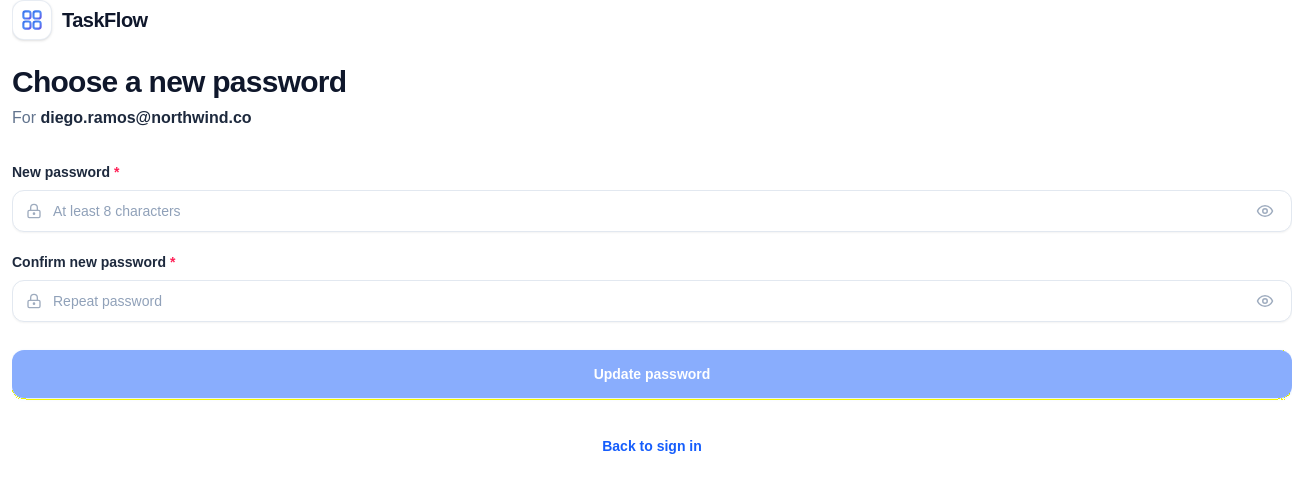
Scenario: ResetPasswordForm Component › keeps submit button disabled when passwords are invalid or mismatching
The width and height of the screenshot is (1304, 493).
Expected: the button "Update password" is disabled, [12,350,1292,398]
// Too short
Type "short" into the password field with placeholder "At least 8 characters".
click(652, 211); type("short")  # box [12,190,1292,232]
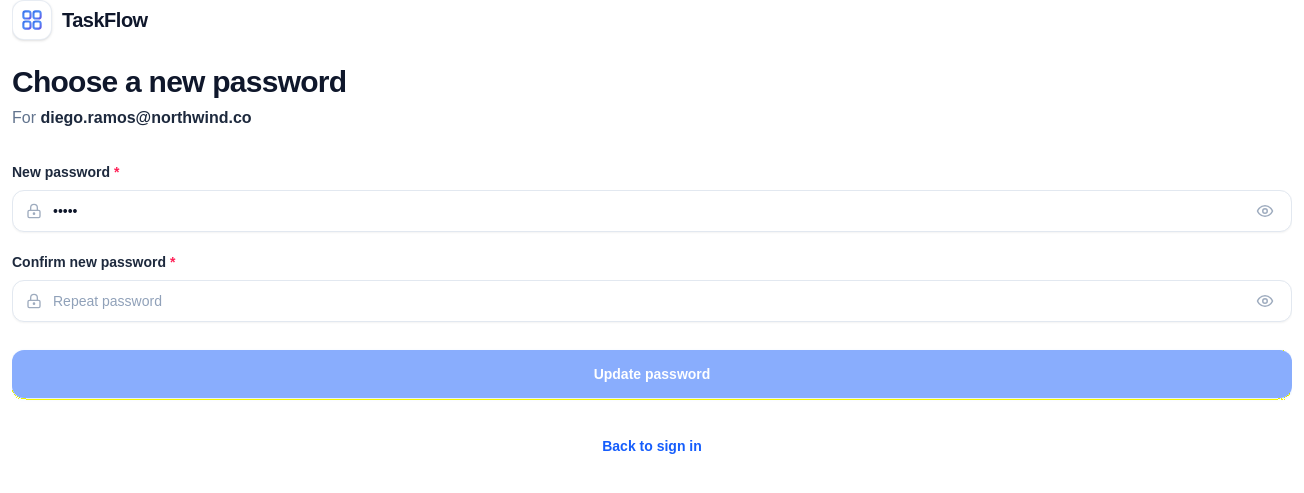
Type "short" into the password field with placeholder "Repeat password".
click(652, 301); type("short")  # box [12,280,1292,322]
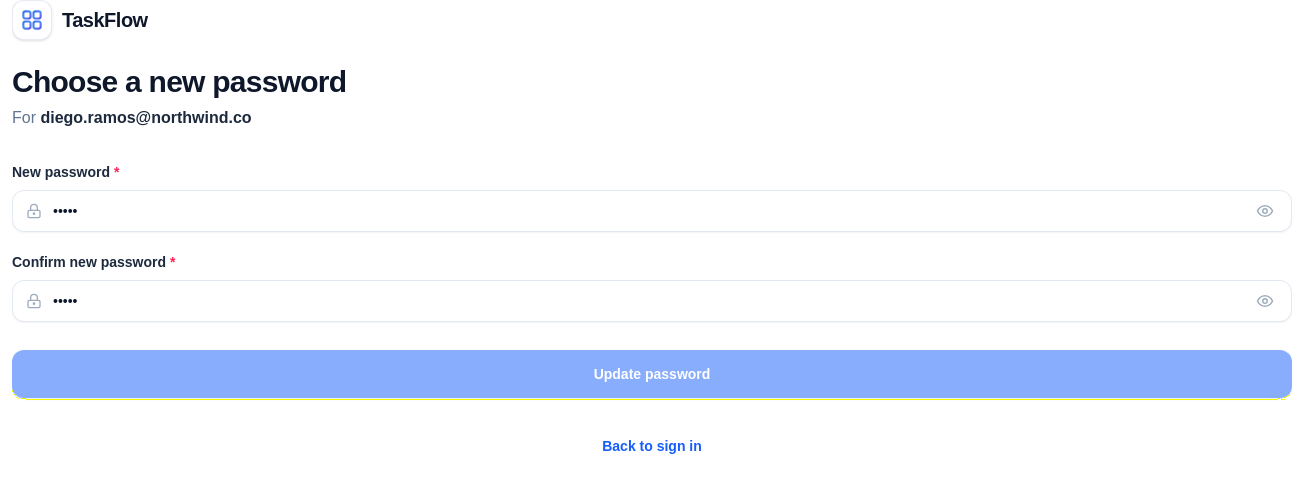
Expected: the button "Update password" is disabled, [12,350,1292,398]
Type "NewPassword123" into the password field with placeholder "At least 8 characters".
click(652, 211); type("NewPassword123")  # box [12,190,1292,232]
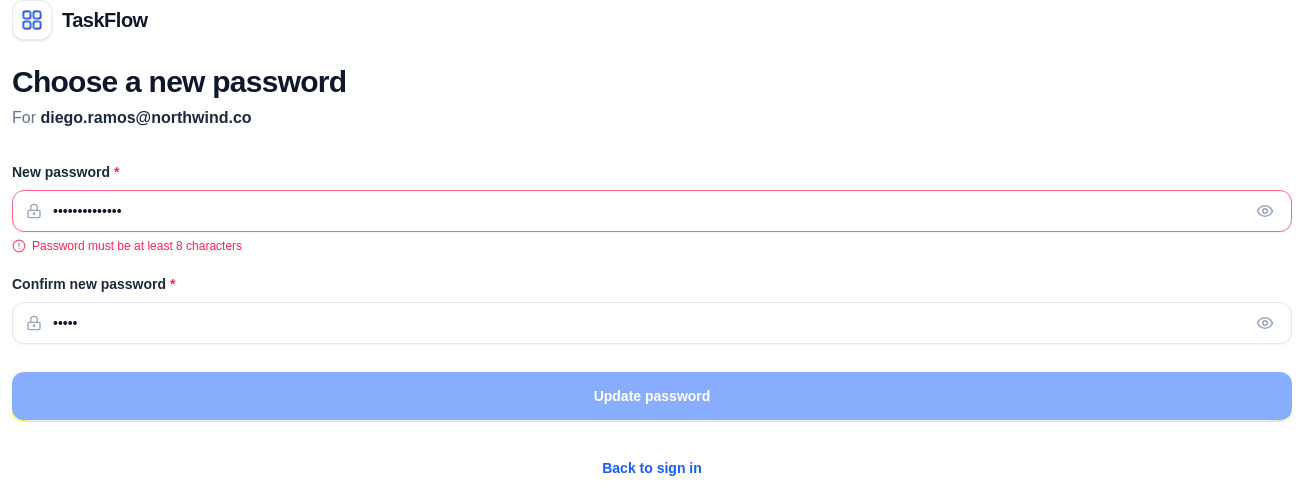
Type "DifferentPass123" into the password field with placeholder "Repeat password".
click(652, 323); type("DifferentPass123")  # box [12,302,1292,344]
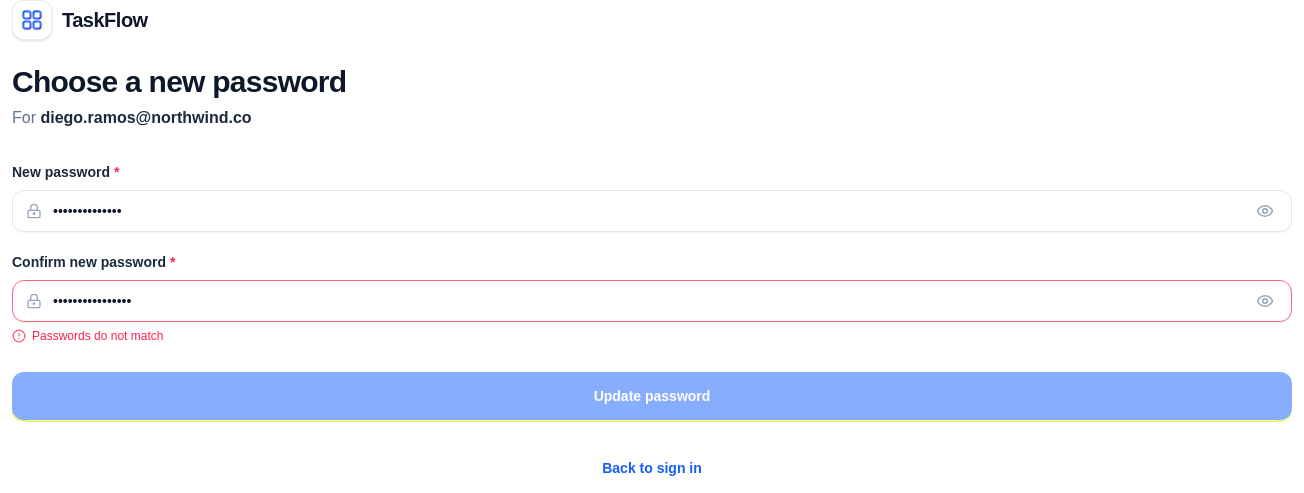
Expected: the button "Update password" is disabled, [12,372,1292,420]
// Valid matching
Type "NewPassword123" into the password field with placeholder "Repeat password".
click(652, 301); type("NewPassword123")  # box [12,280,1292,322]
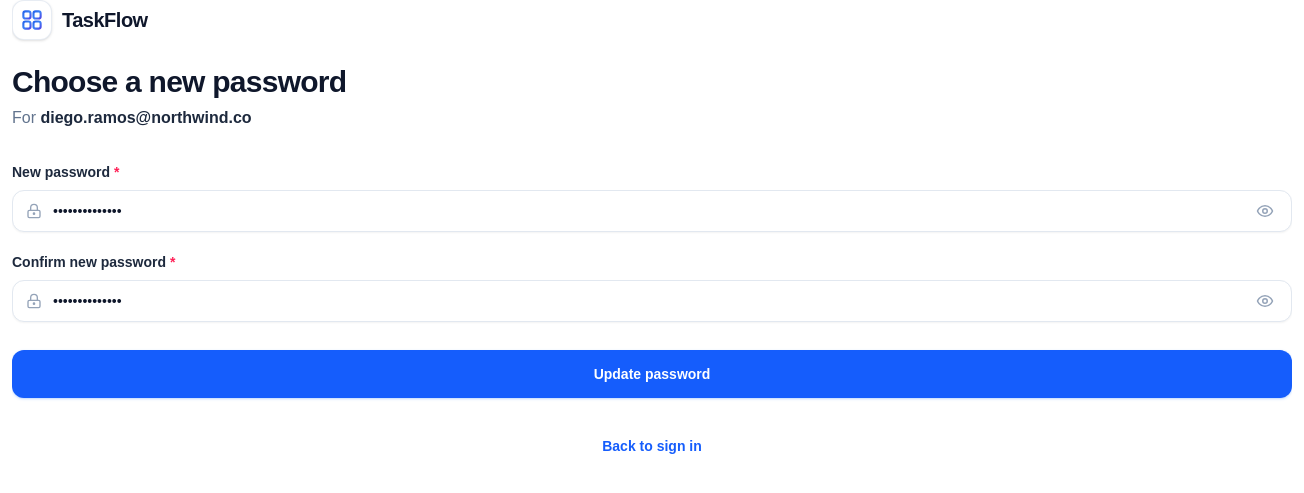
Result: the button "Update password" is enabled at [12,350,1292,398]
